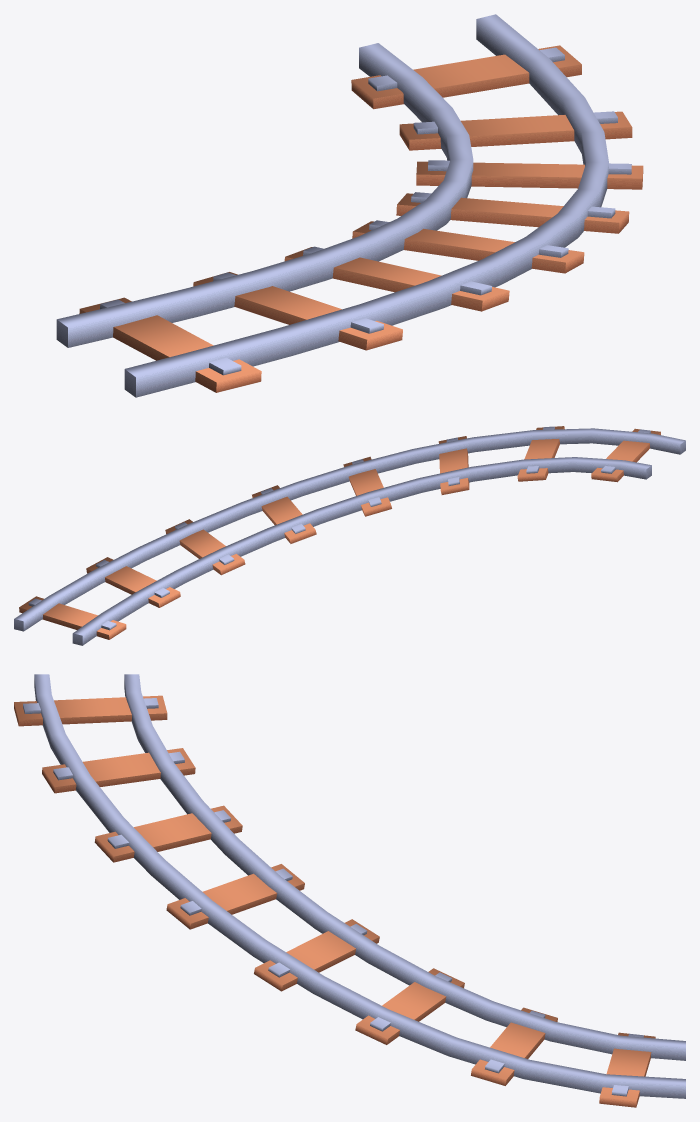
Rendered from railroad-corner-ramp.glb.
The picture shows the model from 3 angles, top to bottom: view 1: azimuth 30°, elevation 25°; view 2: azimuth 150°, elevation 25°; view 3: azimuth 270°, elevation 25°; orthographic projection. The views are drawn at different scales.
Parts seen in each view (by area): view 1: railroad-corner-large-ramp; view 2: railroad-corner-large-ramp; view 3: railroad-corner-large-ramp.
Part boxes in pixels (x1=…): railroad-corner-large-ramp: x1=56, y1=14, x2=643, y2=397; railroad-corner-large-ramp: x1=14, y1=426, x2=685, y2=645; railroad-corner-large-ramp: x1=14, y1=674, x2=685, y2=1107.
Bounding box in the file's own units: 4.49 × 1.1 × 4.49.
1 material, 1 textured.
